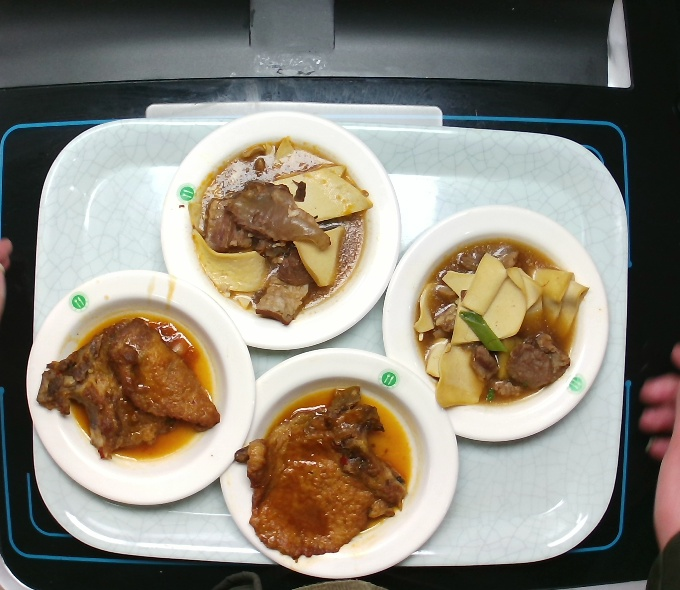wcq-DaPai: (229, 381, 420, 567), (29, 304, 228, 468)
wcq-QianZhangNiuRou: (182, 131, 382, 333), (406, 233, 594, 416)
